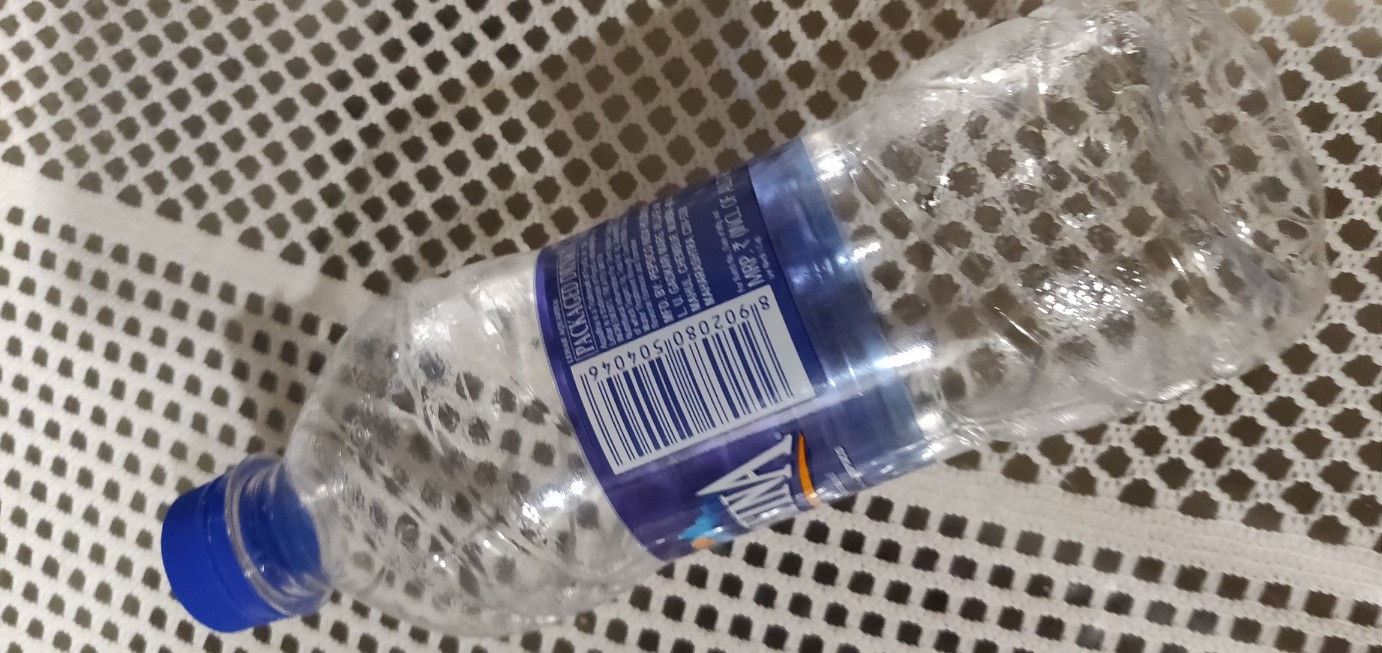Electronics: (149, 1, 1362, 644)
